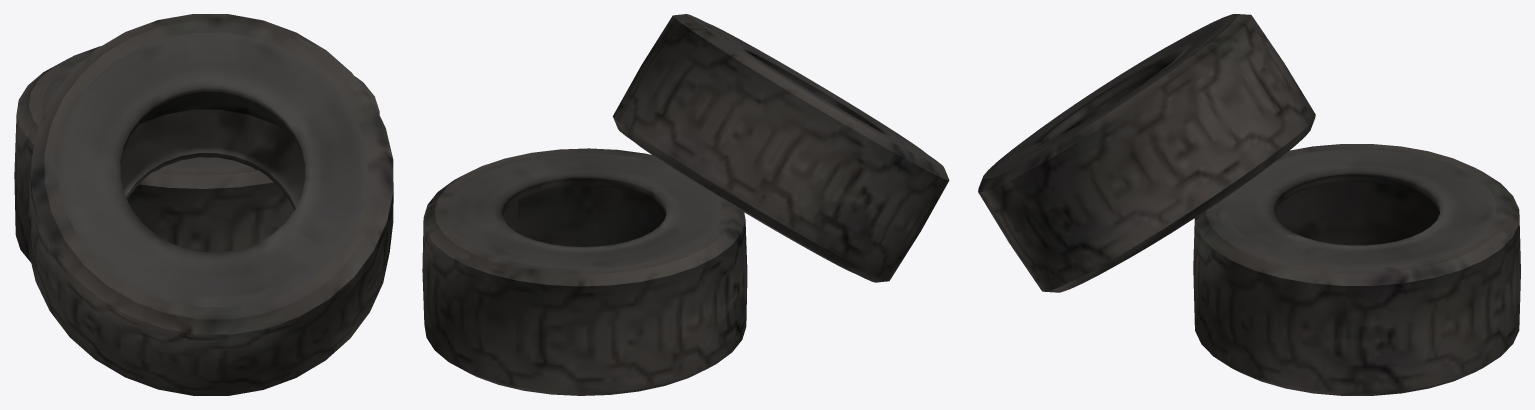
File: tyre-pair.gltf
The picture shows the model from 3 angles, left to right: view 1: azimuth 30°, elevation 25°; view 2: azimuth 150°, elevation 25°; view 3: azimuth 270°, elevation 25°; orthographic projection. The views are drawn at different scales.
Visible parts, largest first — view 1: opon.006; view 2: opon.006; view 3: opon.006.
Part boxes in pixels (x1=…): opon.006: x1=14, y1=14, x2=393, y2=395; opon.006: x1=422, y1=14, x2=949, y2=395; opon.006: x1=978, y1=14, x2=1520, y2=395.
Bounding box in the file's own units: 1.07 × 0.7105 × 1.31.
1 material, 1 textured.
